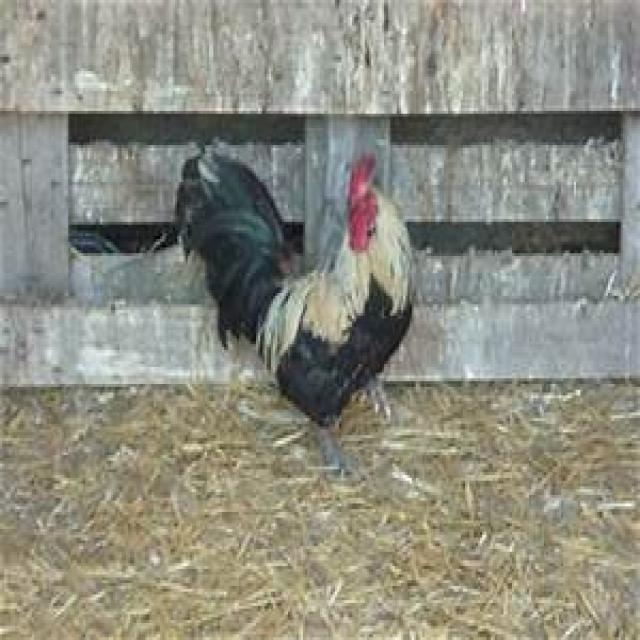hen: (175, 154, 414, 455)
